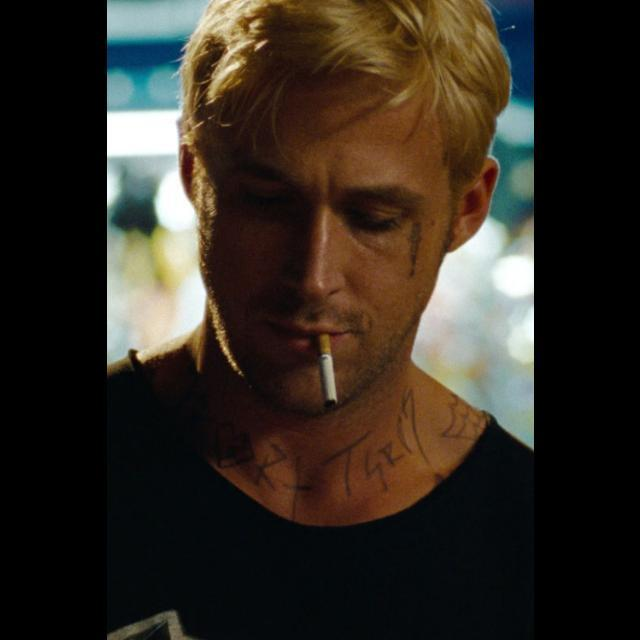rokok: (309, 330, 347, 414)
